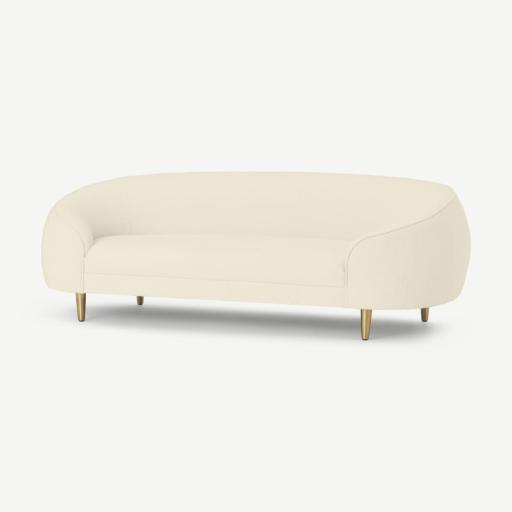back_cushion: (56, 173, 455, 254)
base: (86, 274, 387, 309)
left_arm: (343, 196, 470, 309)
legs: (361, 310, 372, 339), (76, 294, 85, 321), (421, 308, 428, 321), (137, 297, 143, 305)
one-seater: (42, 172, 470, 339)
right_arm: (42, 206, 91, 292)
seat_cushion: (85, 234, 348, 290)
